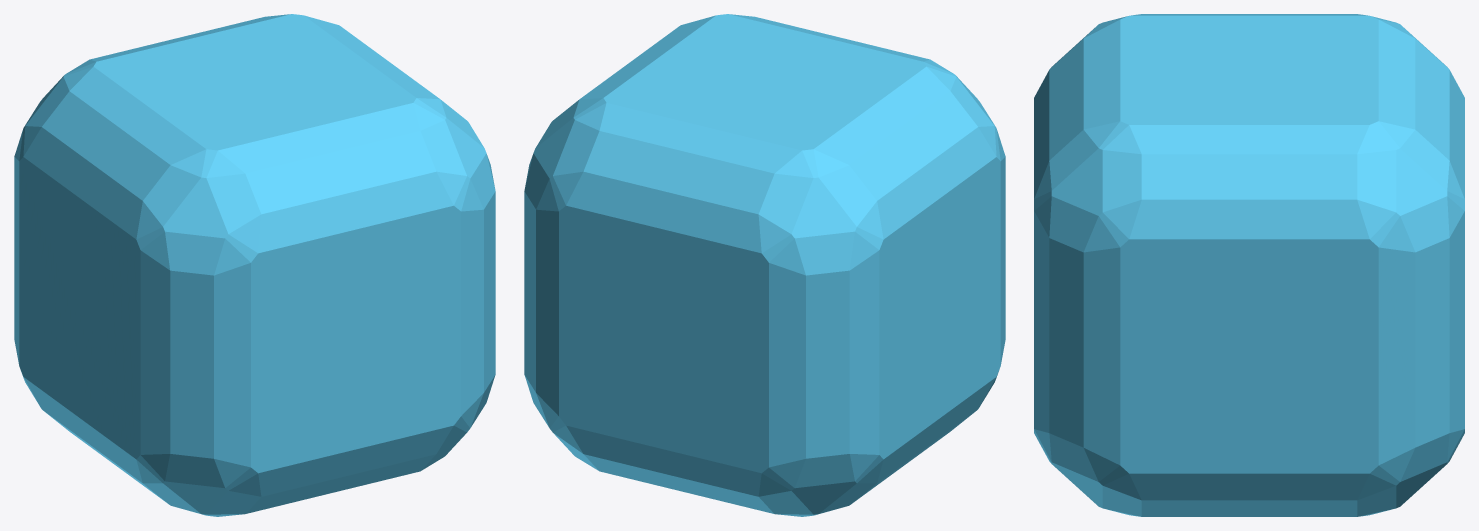
The picture shows the model from 3 angles, left to right: view 1: azimuth 30°, elevation 25°; view 2: azimuth 150°, elevation 25°; view 3: azimuth 270°, elevation 25°; orthographic projection. The views are drawn at different scales.
Parts seen in each view (by area): view 1: Cube; view 2: Cube; view 3: Cube.
Boxes of the visible parts, x1,y1,x2,y2 form: Cube: [14, 14, 495, 516]; Cube: [524, 14, 1005, 516]; Cube: [1034, 14, 1464, 516].
Bounding box in the file's own units: 100 × 100 × 100.
